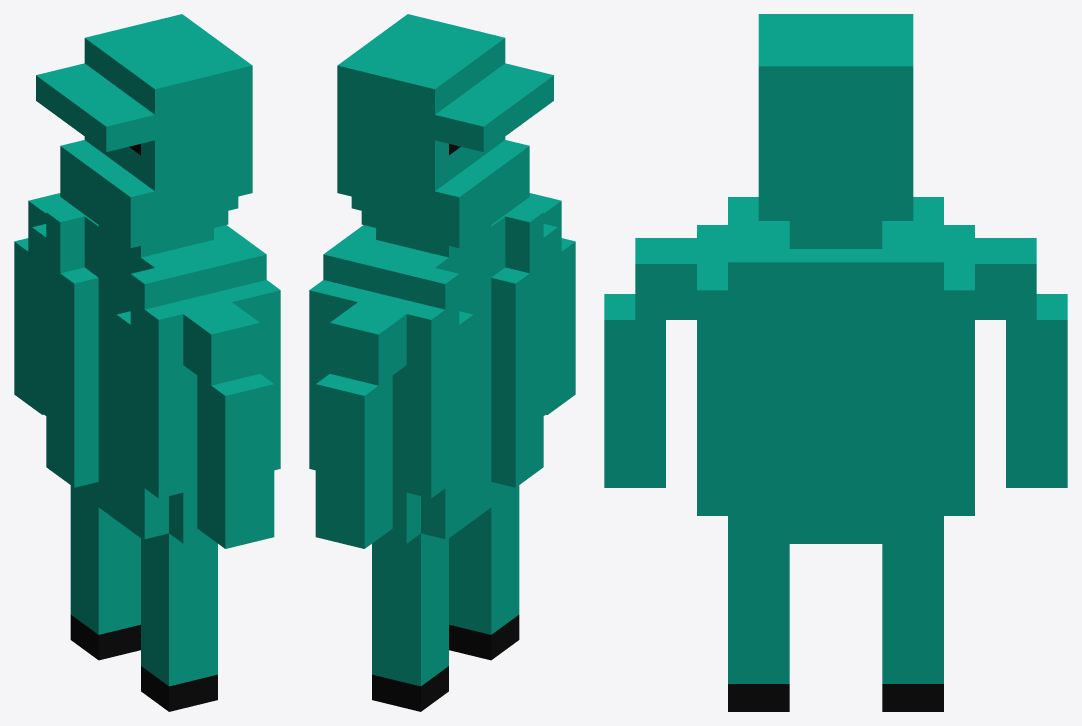
The model's file is Thief_play_chr.fbx.
The picture shows the model from 3 angles, left to right: view 1: azimuth 30°, elevation 25°; view 2: azimuth 150°, elevation 25°; view 3: azimuth 270°, elevation 25°; orthographic projection. The views are drawn at different scales.
Visible parts, largest first — view 1: Thief_play-chr; view 2: Thief_play-chr; view 3: Thief_play-chr.
Part boxes in pixels (x1=…): Thief_play-chr: x1=14, y1=14, x2=280, y2=711; Thief_play-chr: x1=309, y1=14, x2=575, y2=711; Thief_play-chr: x1=604, y1=14, x2=1067, y2=711.
Bounding box in the file's own units: 0.3974 × 1.59 × 0.9921.
